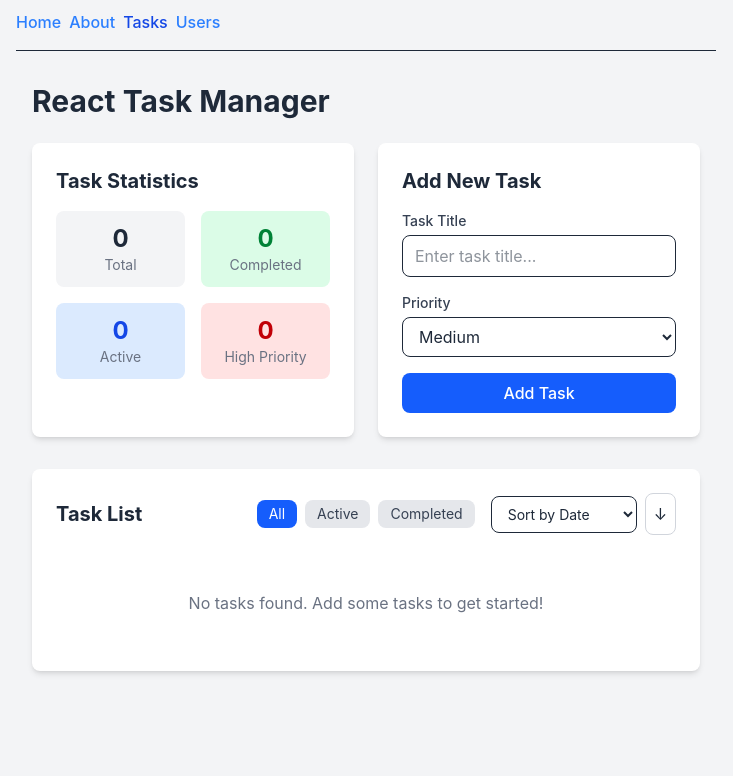
TaskPage › フィルタリング機能 › Activeフィルターで未完了タスクのみ表示
The image size is (733, 776).
Type "Task Active" into the field labelled "Task Title".
click(539, 256); type("Task Active")  # box [402, 235, 676, 277]
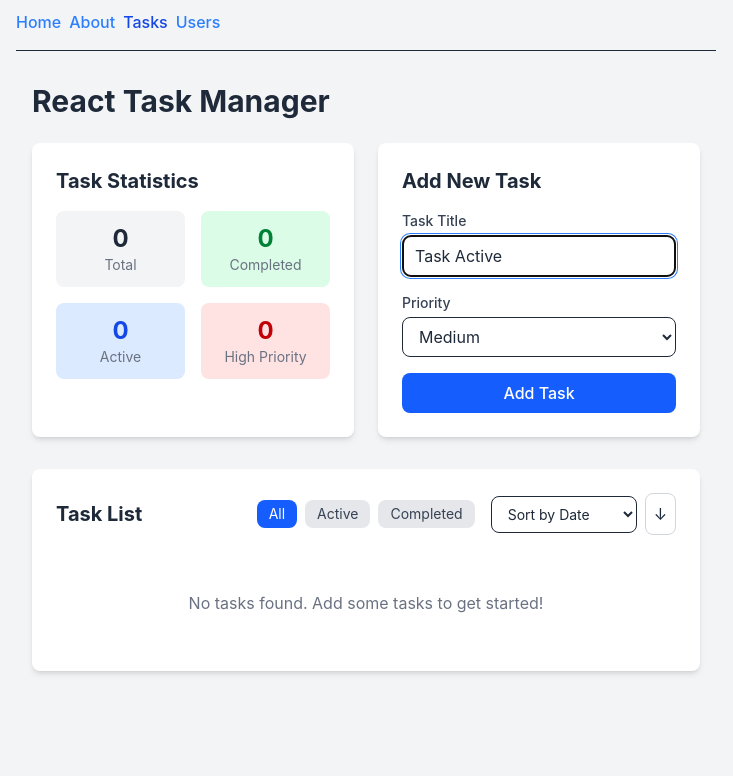
Click the button "Add Task".
click(539, 393)  # box [402, 373, 676, 413]
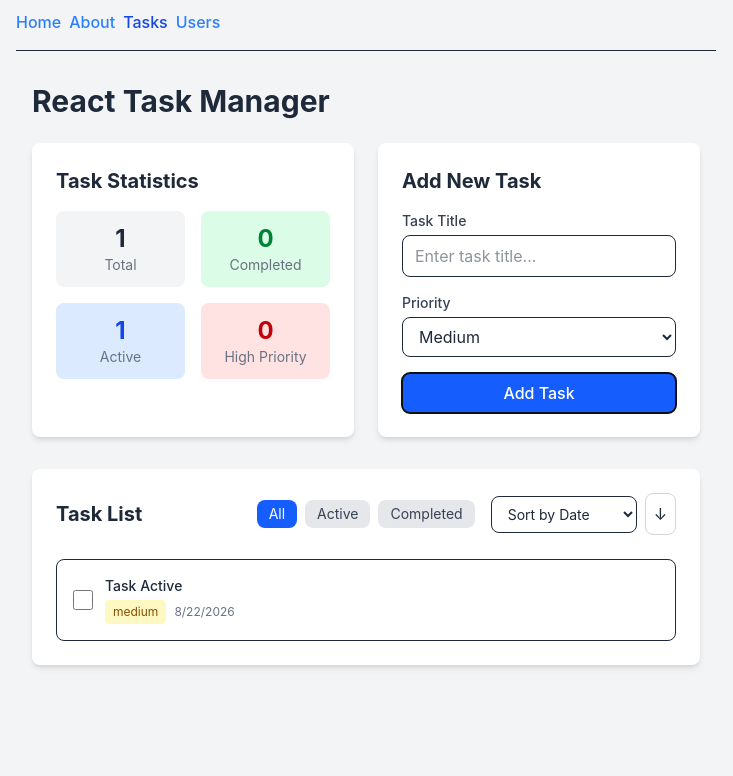
Type "Task Completed" into the field labelled "Task Title".
click(539, 256); type("Task Completed")  # box [402, 235, 676, 277]
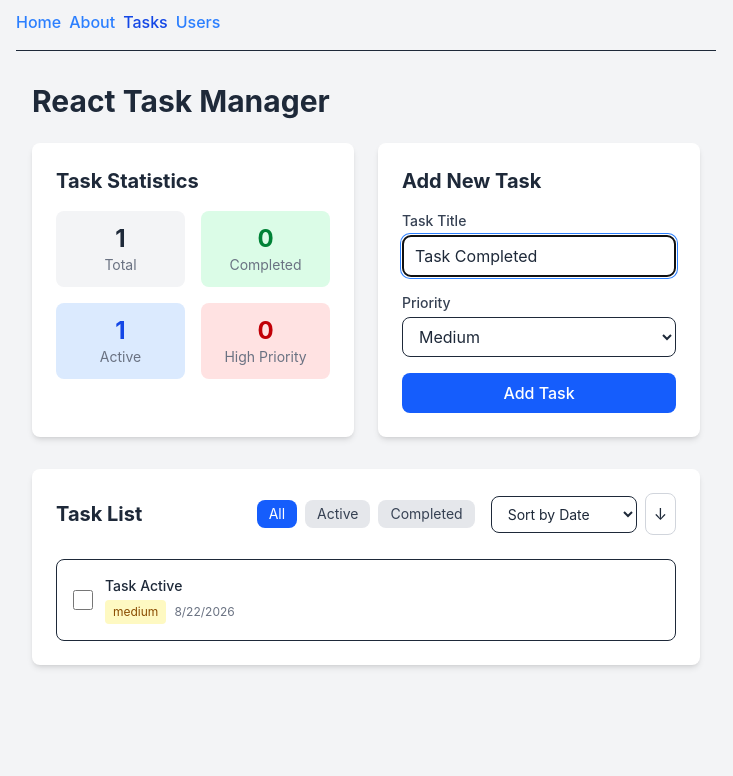
Click the button "Add Task".
click(539, 393)  # box [402, 373, 676, 413]
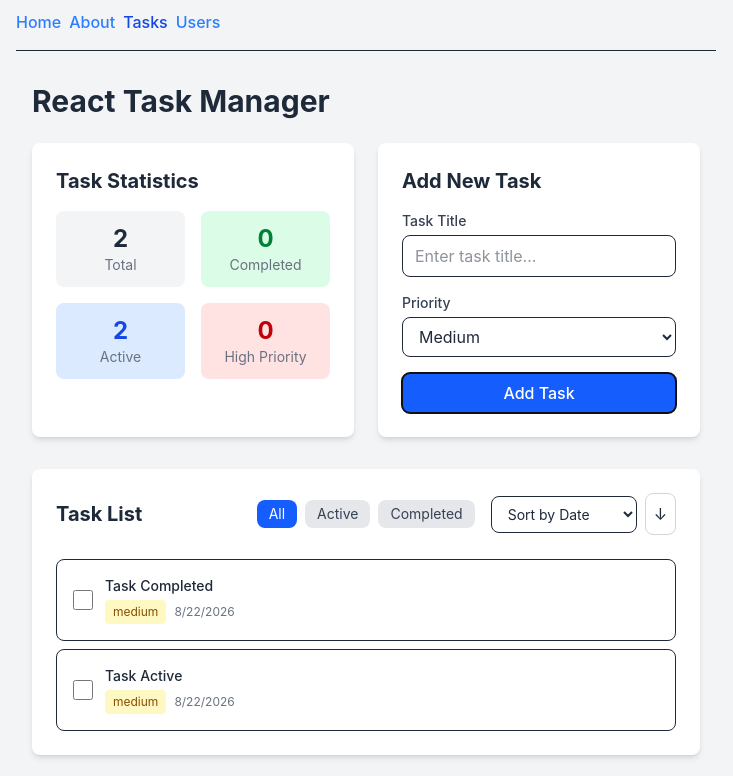
Now the text "Task Active" is shown, box [105, 667, 182, 684]
Now the text "Task Completed" is shown, box [105, 577, 213, 594]
Click the checkbox next to "Task Completed".
click(83, 600)  # box [73, 590, 93, 610]
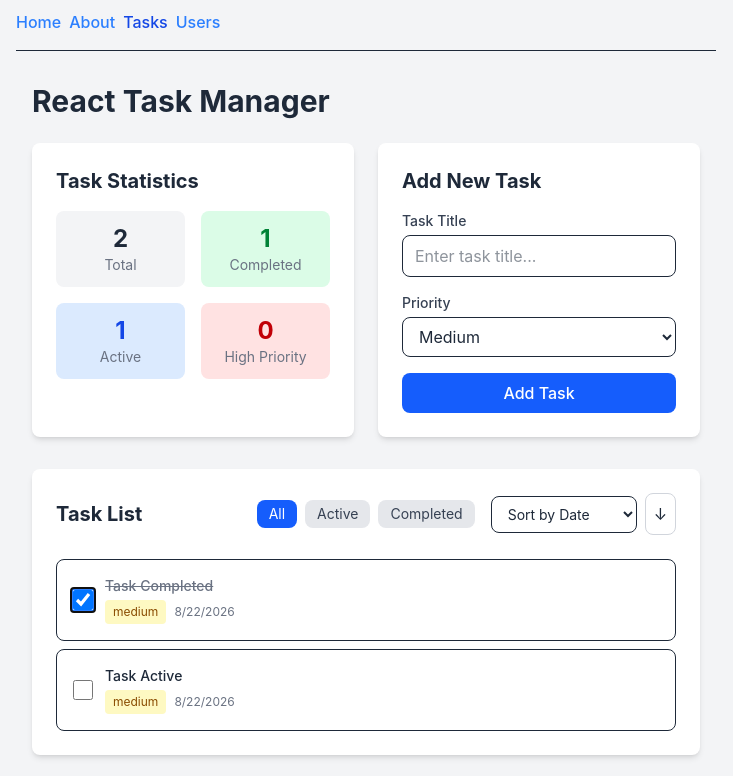
Now the checkbox next to "Task Completed" is checked, box [73, 590, 93, 610]
Note: Activeフィルターをクリック
Click the button "Active".
click(338, 514)  # box [305, 500, 370, 528]
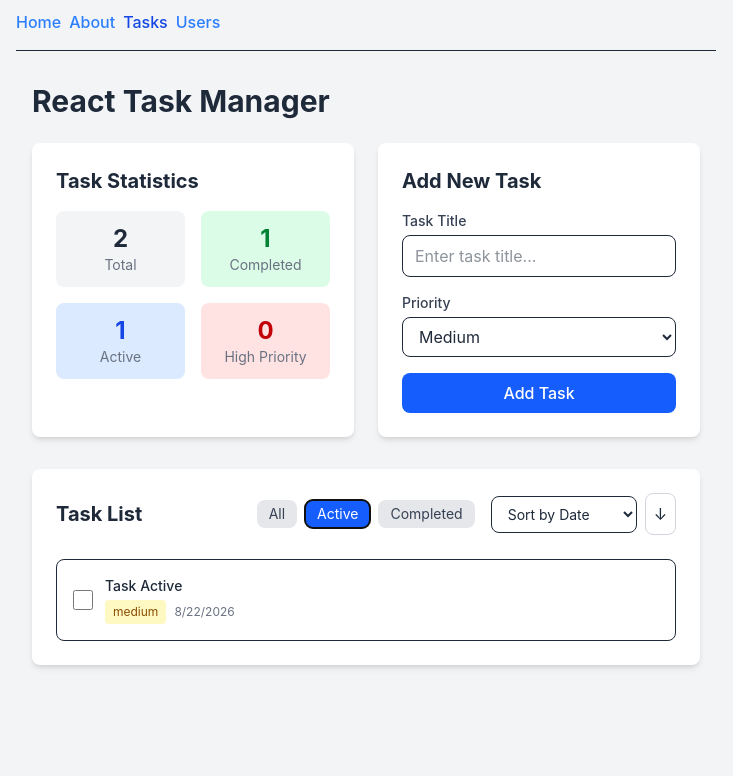
Now the text "Task Active" is shown, box [105, 577, 182, 594]
Now the text "Task Completed" is gone
